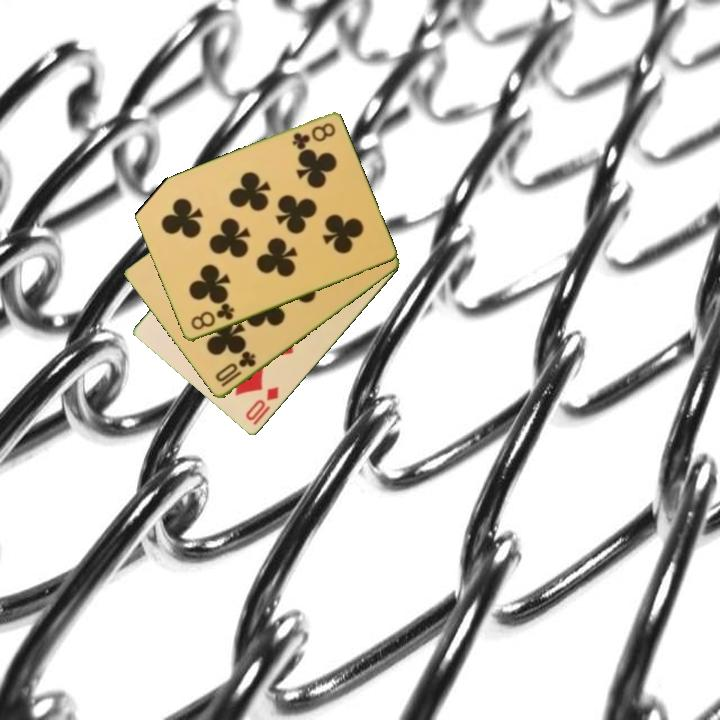10c: (211, 348, 259, 390)
10d: (242, 383, 282, 428)
8c: (288, 119, 338, 153), (187, 300, 237, 333)
